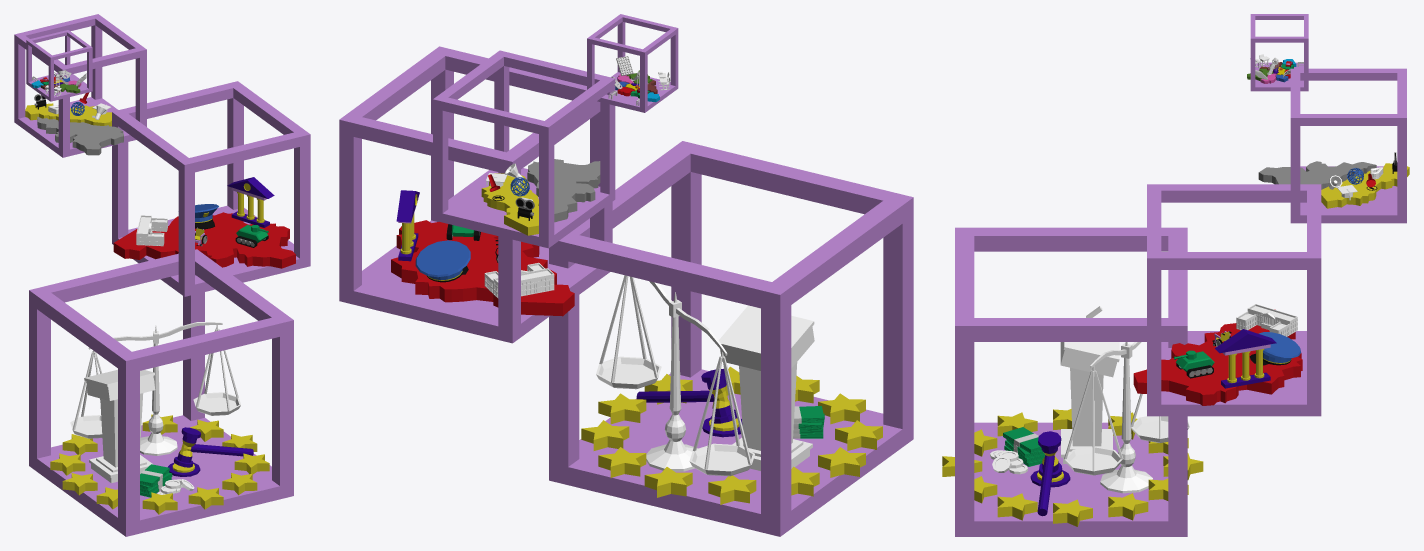
Rendered from 040-types-of-elections.glb.
The picture shows the model from 3 angles, left to right: view 1: azimuth 30°, elevation 25°; view 2: azimuth 150°, elevation 25°; view 3: azimuth 270°, elevation 25°; orthographic projection. The views are drawn at different scales.
Parts seen in each view (by area): view 1: GEO.Cubes, GEO.Europe, GEO.Belgium, GEO.Lectern, GEO.Flanders, GEO.Hammer, GEO.Scale.Tray.R, GEO.Scale.Base, GEO.Government, GEO.Scale.Tray.L, GEO.Parliament.palace, GEO.Cash (+5 smaller); view 2: GEO.Cubes, GEO.Europe, GEO.Belgium, GEO.Lectern, GEO.Flanders, GEO.Scale.Tray.L, GEO.Scale.Tray.R, GEO.Scale.Base, GEO.Hammer, GEO.Police.hat, GEO.Parliament.palace, GEO.Government (+2 smaller); view 3: GEO.Cubes, GEO.Europe, GEO.Belgium, GEO.Lectern, GEO.Flanders, GEO.Scale.Base, GEO.Scale.Tray.R, GEO.Government, GEO.Hammer, GEO.Parliament.palace, GEO.Cash, GEO.Scale.Tray.L (+4 smaller).
Part boxes in pixels (left/top/right/bottom): GEO.Cubes: left=14, top=14, right=310, bottom=536; GEO.Europe: left=50, top=414, right=269, bottom=514; GEO.Belgium: left=113, top=212, right=295, bottom=268; GEO.Lectern: left=84, top=369, right=155, bottom=483; GEO.Flanders: left=25, top=103, right=123, bottom=155; GEO.Hammer: left=168, top=427, right=253, bottom=476; GEO.Scale.Tray.R: left=193, top=325, right=240, bottom=415; GEO.Scale.Base: left=140, top=325, right=177, bottom=455; GEO.Government: left=227, top=177, right=274, bottom=227; GEO.Scale.Tray.L: left=70, top=350, right=102, bottom=438; GEO.Parliament.palace: left=136, top=215, right=167, bottom=246; GEO.Cash: left=140, top=464, right=172, bottom=497; GEO.Cubes: left=339, top=14, right=913, bottom=536; GEO.Europe: left=581, top=366, right=882, bottom=504; GEO.Belgium: left=391, top=220, right=574, bottom=316; GEO.Lectern: left=718, top=305, right=814, bottom=470; GEO.Flanders: left=481, top=159, right=600, bottom=235; GEO.Scale.Tray.L: left=689, top=351, right=754, bottom=476; GEO.Scale.Tray.R: left=596, top=275, right=661, bottom=389; GEO.Scale.Base: left=646, top=292, right=697, bottom=471; GEO.Hammer: left=636, top=368, right=742, bottom=437; GEO.Police.hat: left=415, top=240, right=470, bottom=282; GEO.Parliament.palace: left=484, top=262, right=554, bottom=298; GEO.Government: left=396, top=190, right=419, bottom=261; GEO.Cubes: left=955, top=14, right=1406, bottom=536; GEO.Europe: left=942, top=408, right=1203, bottom=526; GEO.Belgium: left=1133, top=309, right=1302, bottom=405; GEO.Lectern: left=1060, top=306, right=1119, bottom=463; GEO.Flanders: left=1258, top=161, right=1409, bottom=208; GEO.Scale.Base: left=1100, top=342, right=1152, bottom=493; GEO.Scale.Tray.R: left=1064, top=366, right=1123, bottom=475; GEO.Government: left=1215, top=329, right=1276, bottom=388; GEO.Hammer: left=1030, top=431, right=1070, bottom=516; GEO.Parliament.palace: left=1236, top=304, right=1297, bottom=336; GEO.Cash: left=1003, top=427, right=1045, bottom=466; GEO.Scale.Tray.L: left=1131, top=393, right=1189, bottom=442.
Bounding box in the file's own units: 1.26 × 1.63 × 1.52.
